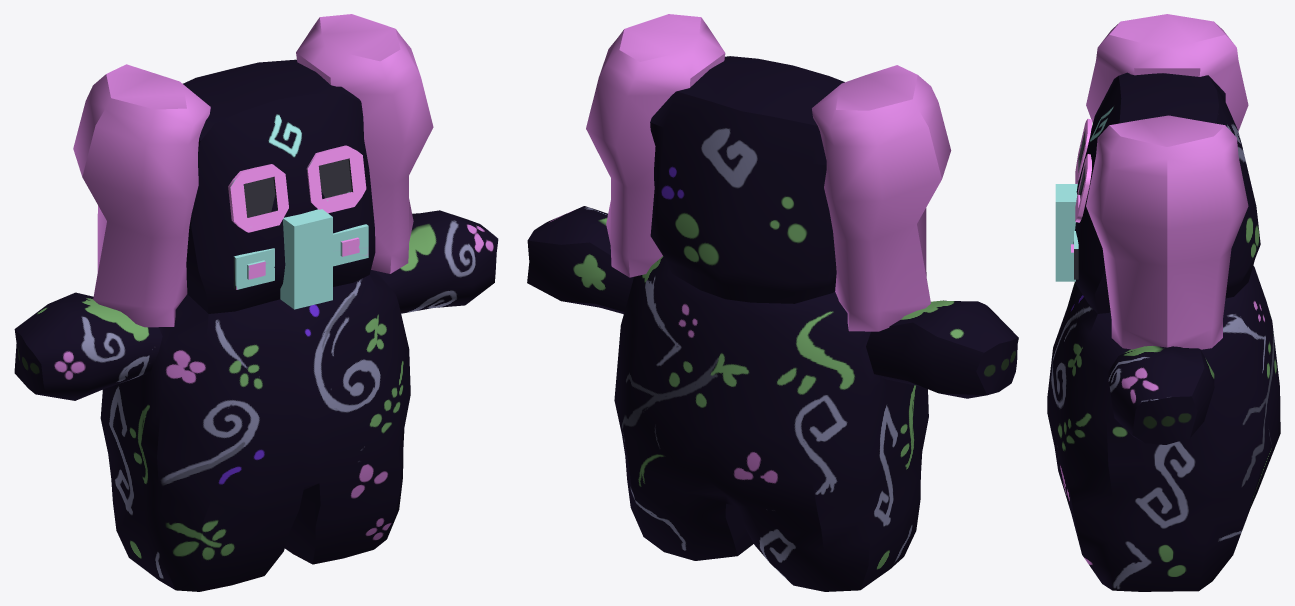
File: MARIMONDA_1_MORADA.fbx
3 renders of one model, left to right at view 1: azimuth 30°, elevation 25°; view 2: azimuth 150°, elevation 25°; view 3: azimuth 270°, elevation 25°, orthographic. The views are drawn at different scales.
Visible parts, largest first — view 1: cuerpo, orejas, ojos, nariz; view 2: cuerpo, orejas; view 3: cuerpo, orejas, nariz, ojos.
Part boxes in pixels (x1,y1,x2,y2): cuerpo: (14,59,498,591); orejas: (73,14,433,327); ojos: (228,145,368,289); nariz: (280,209,332,309); cuerpo: (527,56,1018,591); orejas: (586,14,951,331); cuerpo: (1047,72,1280,591); orejas: (1086,14,1248,349); nariz: (1055,184,1077,281); ojos: (1071,119,1091,279).
Bounding box in the file's own units: 792 × 790 × 358.
Materials: 4 (4 with a texture image).
